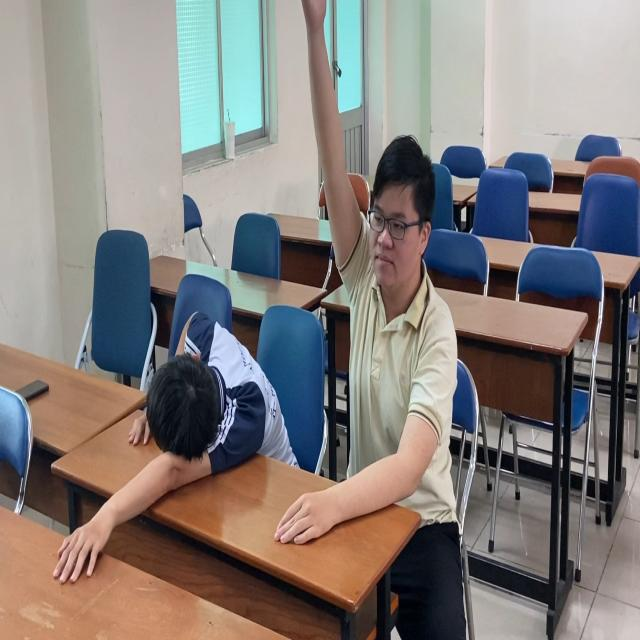raise_hand: (282, 1, 468, 574)
sleep: (40, 307, 290, 522)
